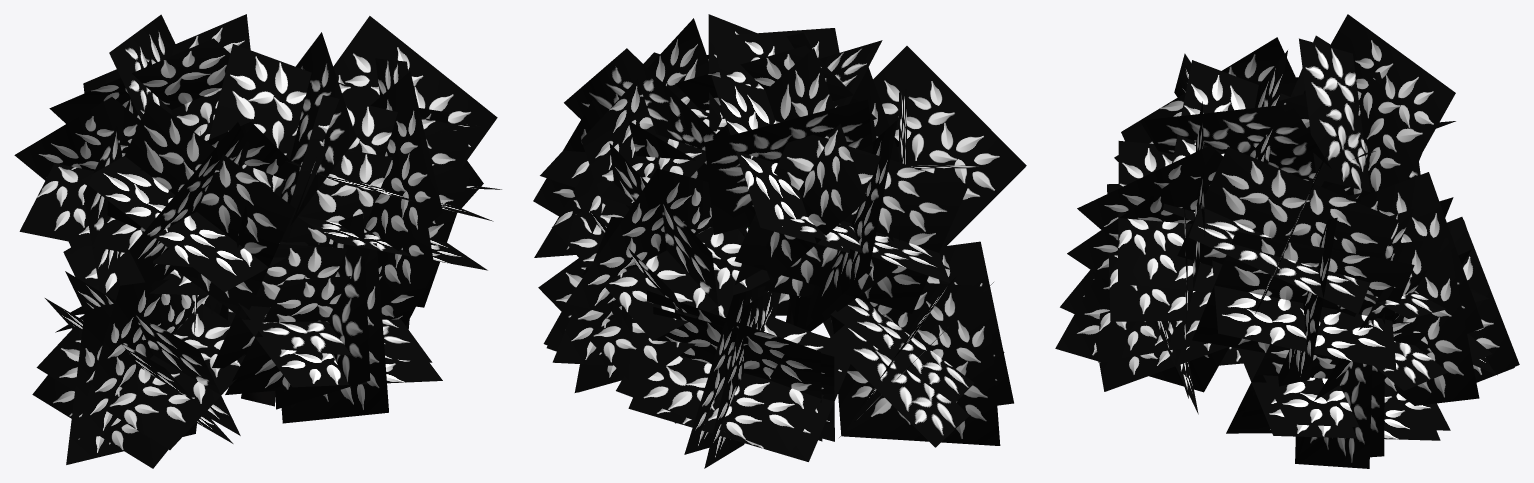
The model's file is Bush_Blender_001_Berry.fbx.
3 views of the same model, side by side, from view 1: azimuth 30°, elevation 25°; view 2: azimuth 150°, elevation 25°; view 3: azimuth 270°, elevation 25° (orthographic). The views are drawn at different scales.
Visible parts, largest first — view 1: berrybush_1; view 2: berrybush_1; view 3: berrybush_1.
Part boxes in pixels (left/top/right/bottom): berrybush_1: left=14, top=14, right=501, bottom=468; berrybush_1: left=533, top=14, right=1026, bottom=468; berrybush_1: left=1055, top=14, right=1519, bottom=468.
Size of the model in its own units: 163 by 135 by 151.
